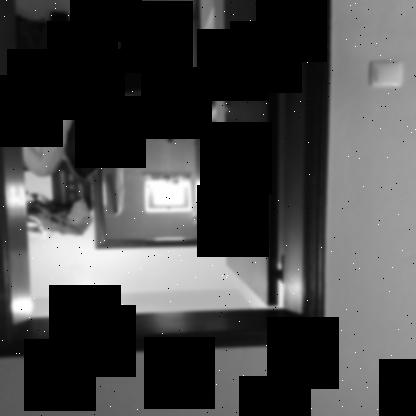Porte: (0, 0, 332, 359)
